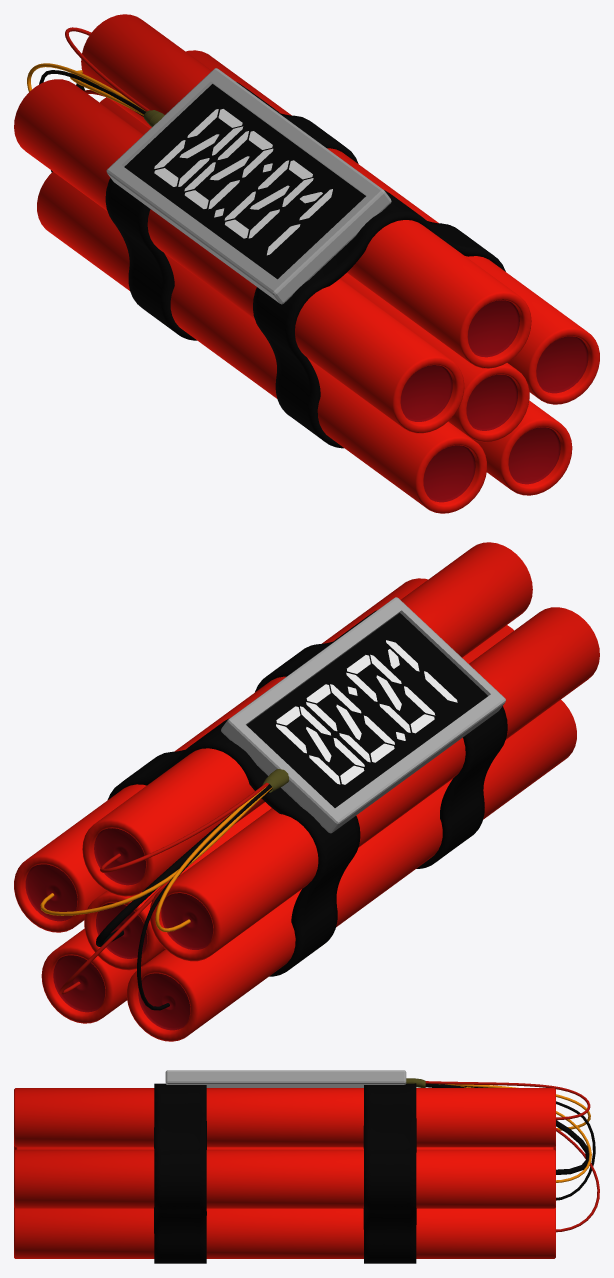
Rendered from uploads_files_3528861_Dynamite.fbx.
The picture shows the model from 3 angles, top to bottom: view 1: azimuth 30°, elevation 25°; view 2: azimuth 150°, elevation 25°; view 3: azimuth 270°, elevation 25°; orthographic projection. The views are drawn at different scales.
Parts seen in each view (by area): view 1: Dynamite; view 2: Dynamite; view 3: Dynamite.
Boxes of the visible parts, box(x1,y1,x2,y2) form: Dynamite: box(14, 14, 599, 513); Dynamite: box(14, 542, 599, 1041); Dynamite: box(14, 1070, 599, 1263).
Size of the model in its own units: 12.92 by 13.35 by 40.79.
